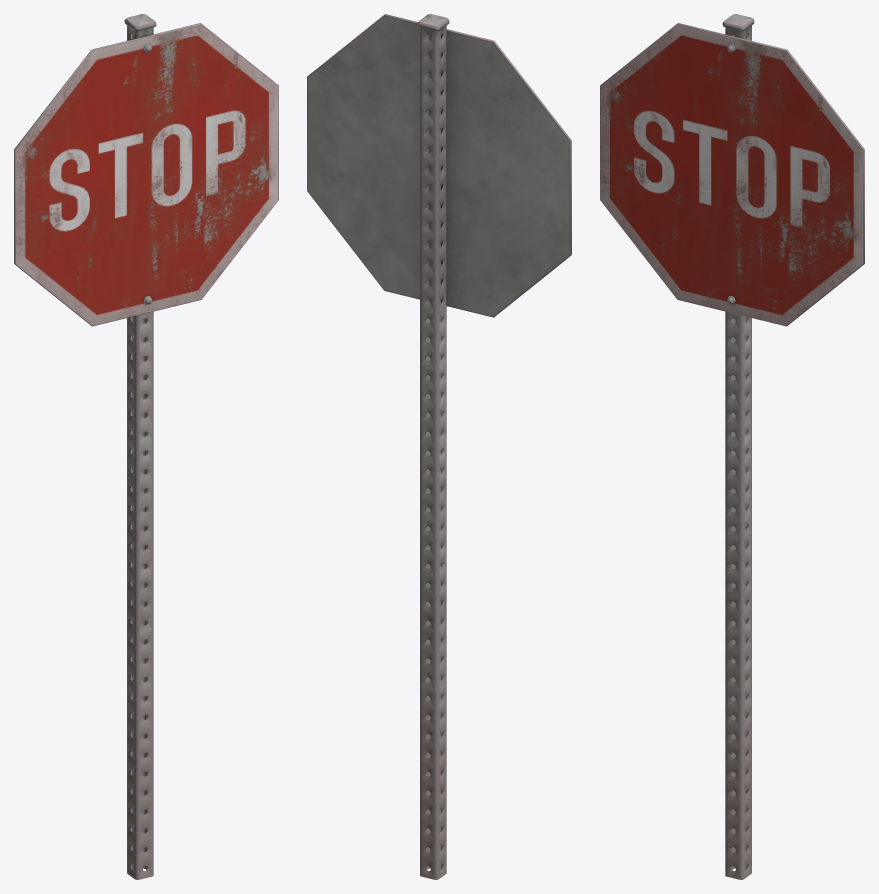
The model's file is stop_sign_weathered.glb.
3 renders of one model, left to right at view 1: azimuth 30°, elevation 25°; view 2: azimuth 150°, elevation 25°; view 3: azimuth 330°, elevation 25°, orthographic.
Parts seen in each view (by area): view 1: defaultMaterial; view 2: defaultMaterial; view 3: defaultMaterial.
Boxes of the visible parts, left/top/right/bottom form: defaultMaterial: left=14, top=14, right=278, bottom=879; defaultMaterial: left=307, top=14, right=571, bottom=879; defaultMaterial: left=600, top=14, right=864, bottom=879.
Size of the model in its own units: 8.83 by 27.29 by 0.9011.
1 material, 1 textured.
